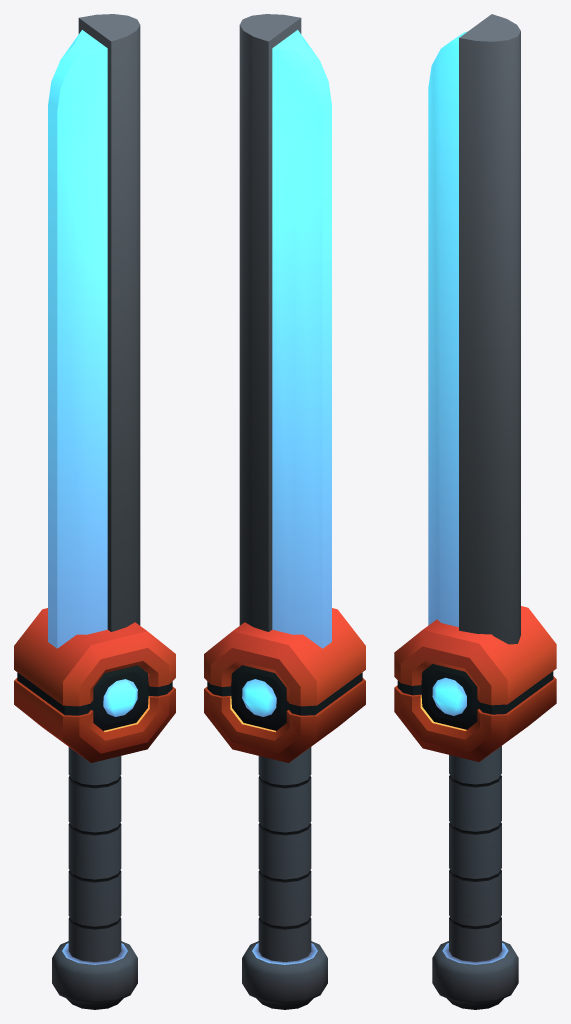
The model's file is weap.fbx.
3 views of the same model, side by side, from view 1: azimuth 30°, elevation 25°; view 2: azimuth 150°, elevation 25°; view 3: azimuth 330°, elevation 25° (orthographic).
Visible parts, largest first — view 1: Cube.001, Cube, Circle; view 2: Cube.001, Cube, Circle; view 3: Cube.001, Cube, Circle.
Part boxes in pixels (x1=…): Cube.001: x1=48, y1=14, x2=140, y2=648; Cube: x1=14, y1=608, x2=175, y2=762; Circle: x1=52, y1=747, x2=137, y2=1009; Cube.001: x1=239, y1=14, x2=331, y2=648; Cube: x1=204, y1=608, x2=365, y2=762; Circle: x1=242, y1=747, x2=327, y2=1009; Cube.001: x1=428, y1=14, x2=520, y2=644; Cube: x1=394, y1=606, x2=556, y2=761; Circle: x1=432, y1=746, x2=518, y2=1009.
Bounding box in the file's own units: 200 × 1644 × 180.
